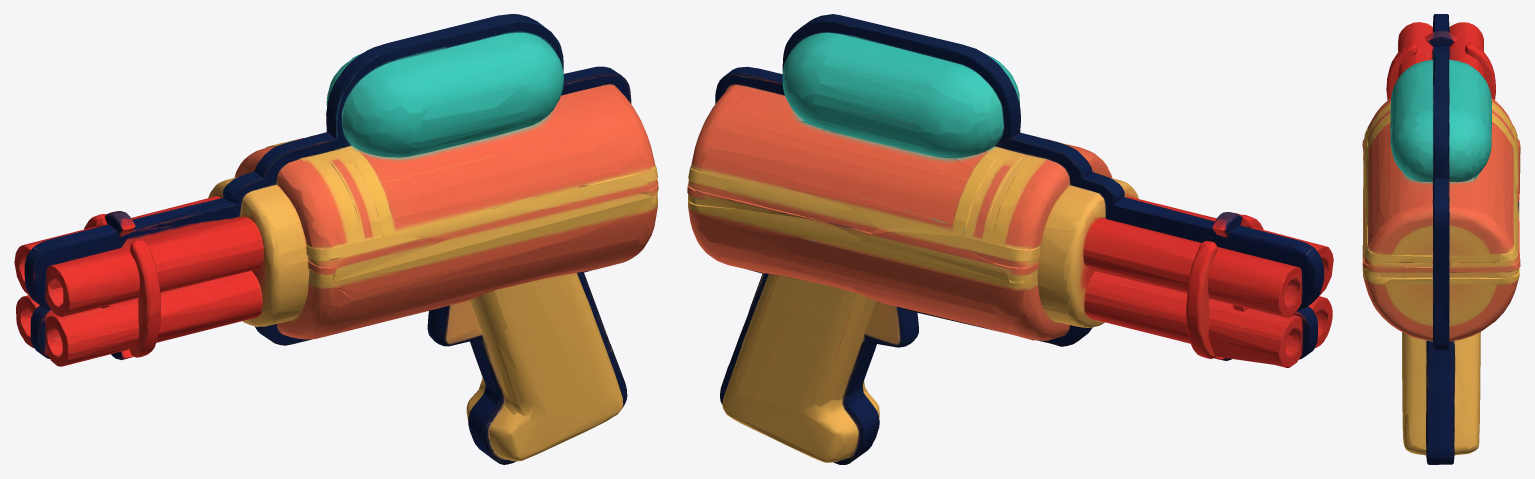
The model's file is Vacuum_Turbo.glb.
The picture shows the model from 3 angles, left to right: view 1: azimuth 30°, elevation 25°; view 2: azimuth 150°, elevation 25°; view 3: azimuth 270°, elevation 25°; orthographic projection. The views are drawn at different scales.
Size of the model in its own units: 1.9 by 1.33 by 0.5545.
1 material, 1 textured.
